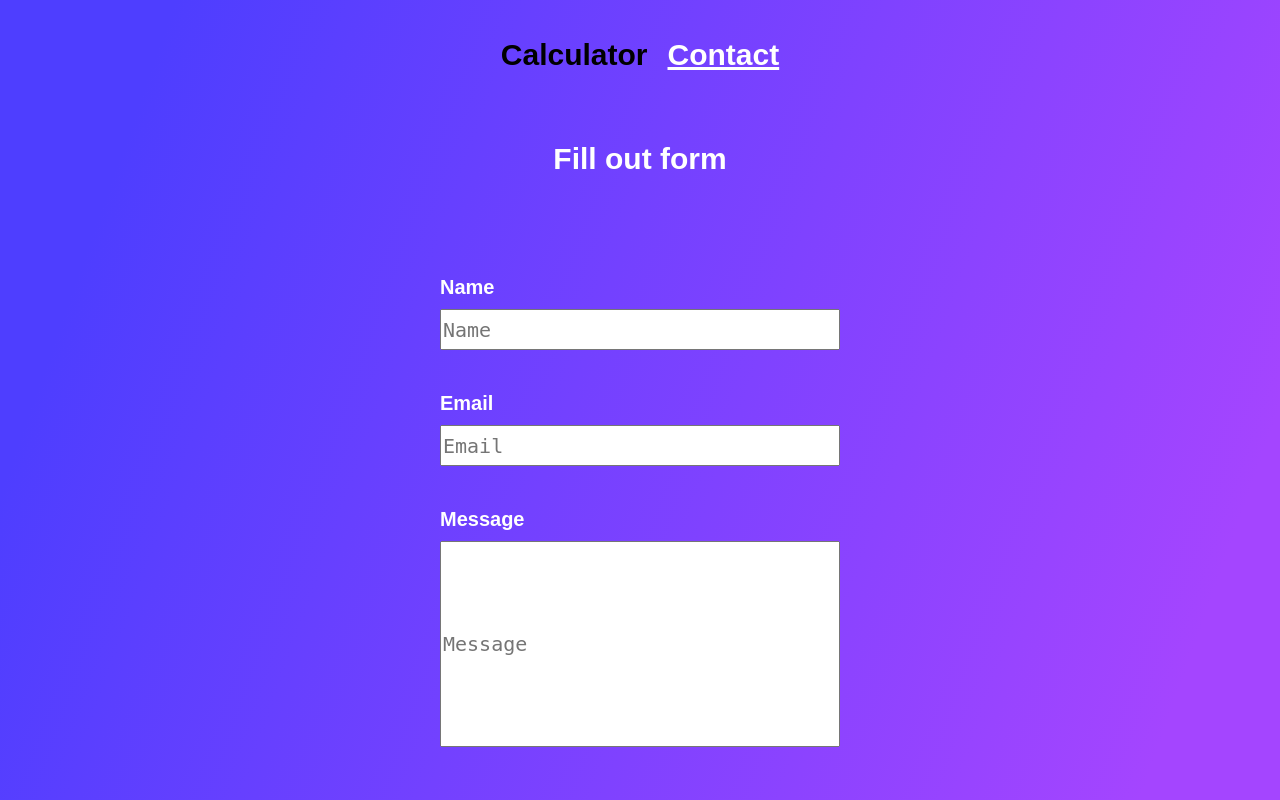
Contact Form › Check that form is submitted
The image size is (1280, 800).
In the text box with id "nameInput": (640, 330) [440,309,840,350], type "Random Name"
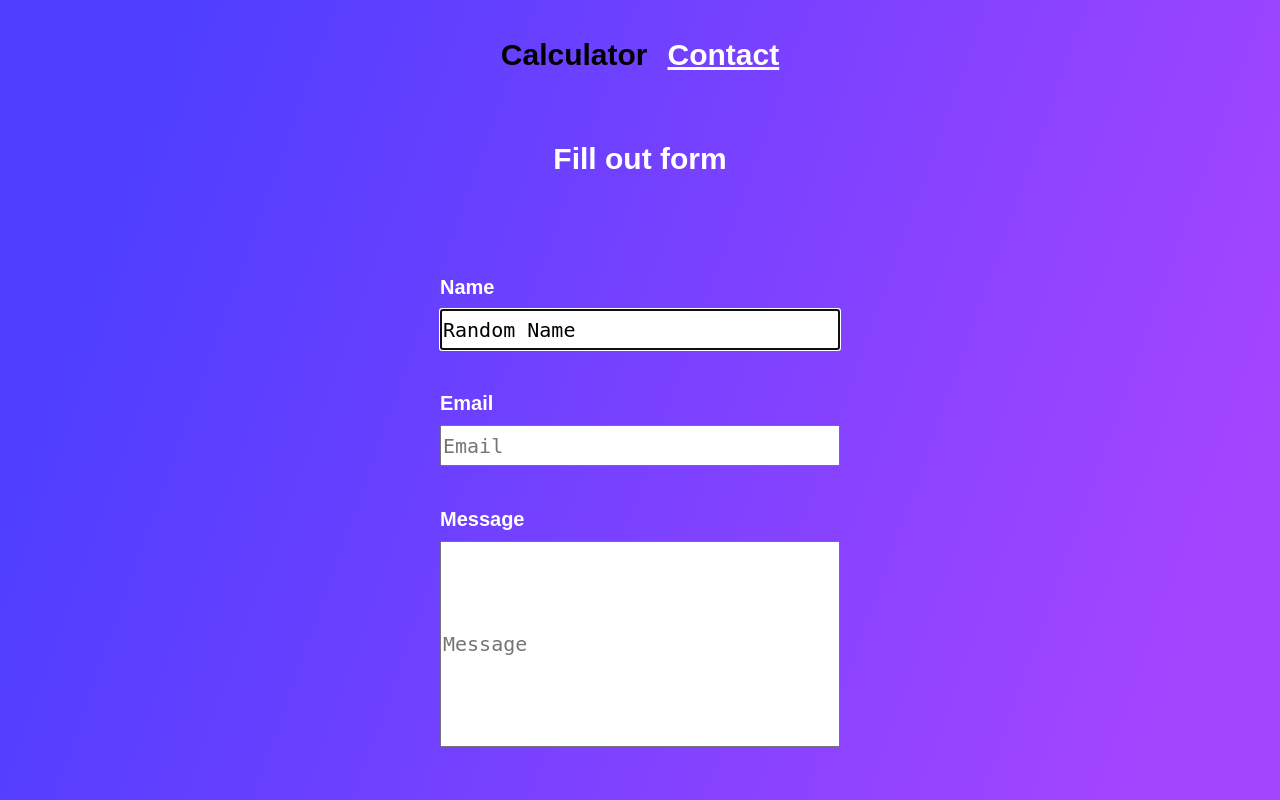
In the text box with id "emailInput": (640, 446) [440,425,840,466], type "random@email.com"
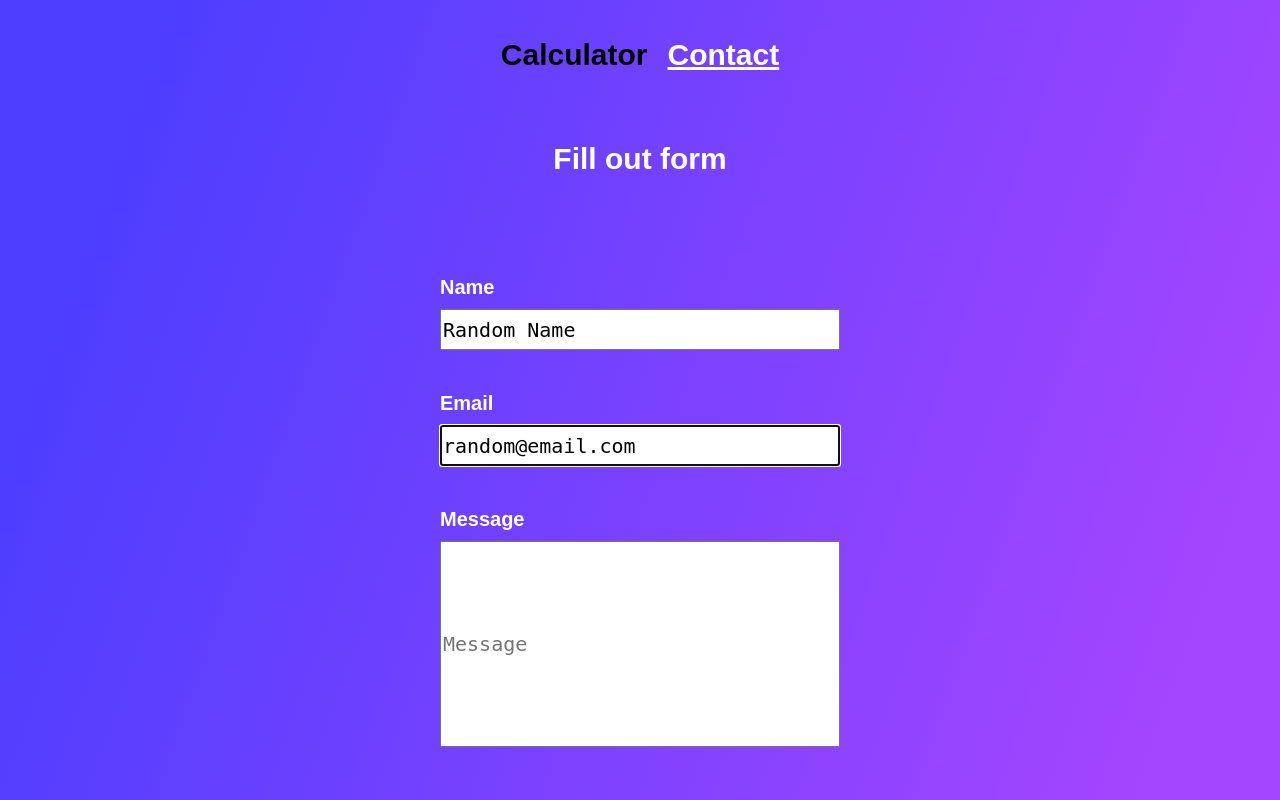
In the text box with id "messageInput": (640, 644) [440,541,840,747], type "Random Message"
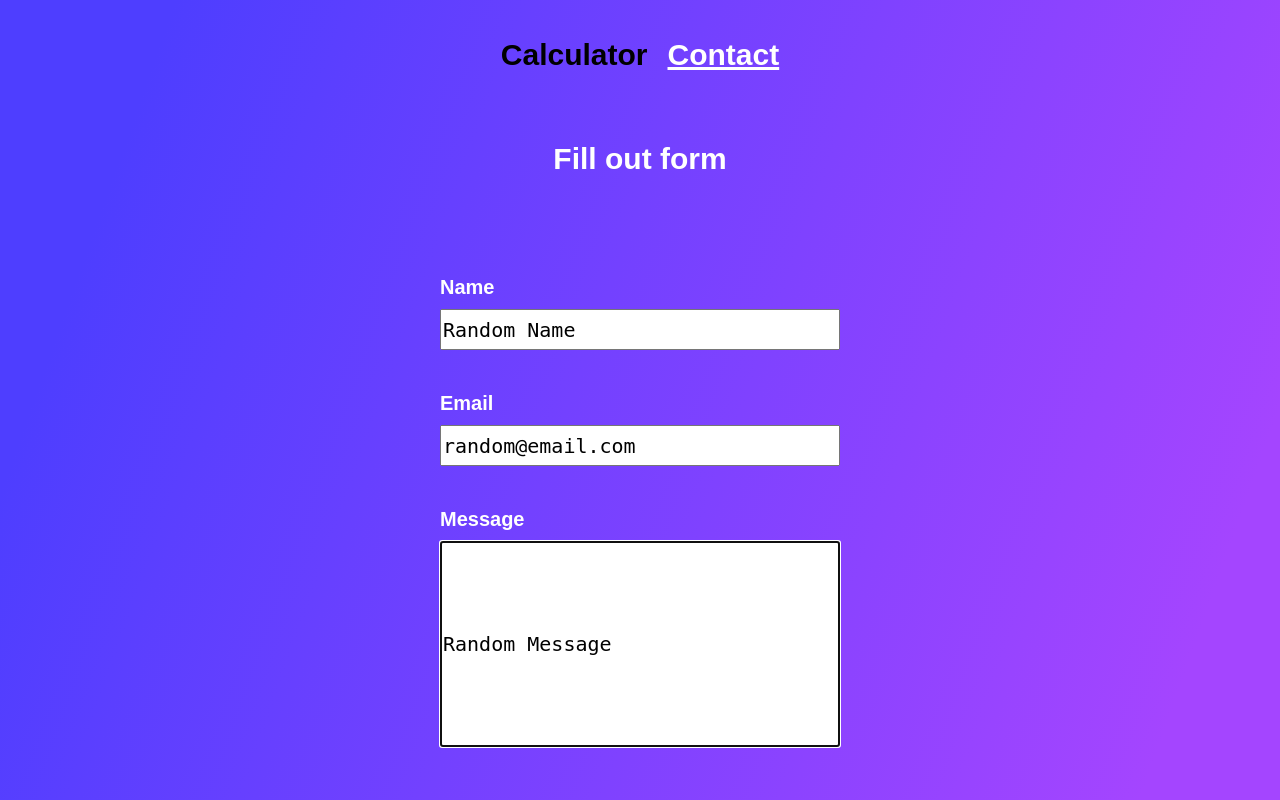
Scroll
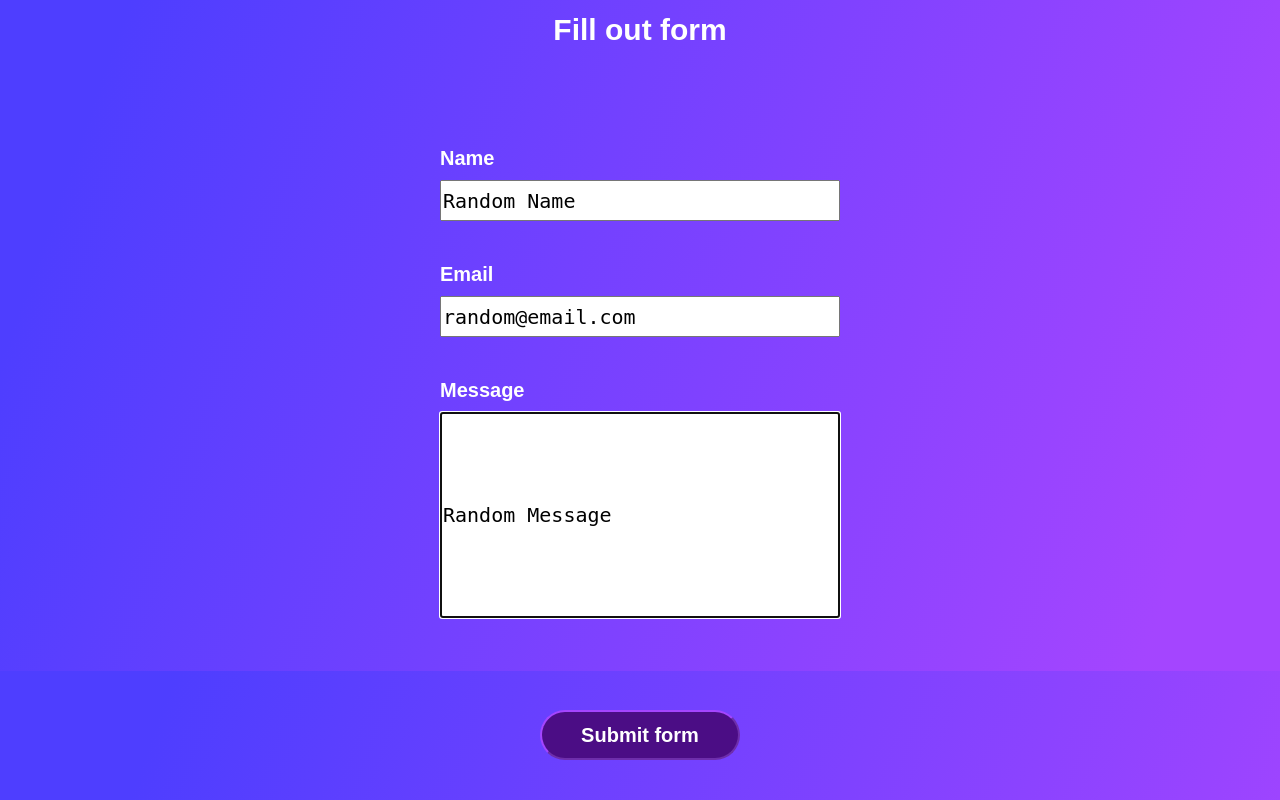
Click the button with id "submitButton": (640, 735) [540,710,740,760]
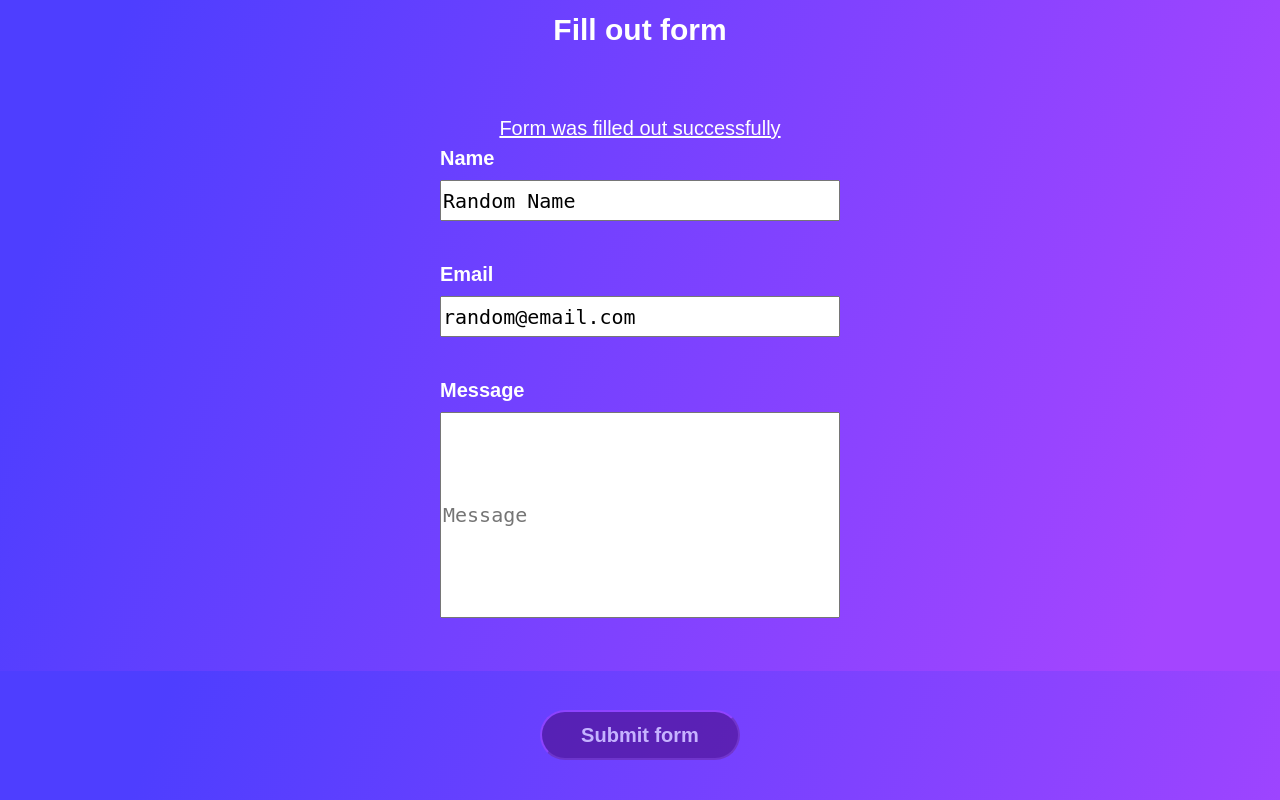
Expected: the text with id "feedback" reads "Form was filled out successfully", [440,117,840,127]
